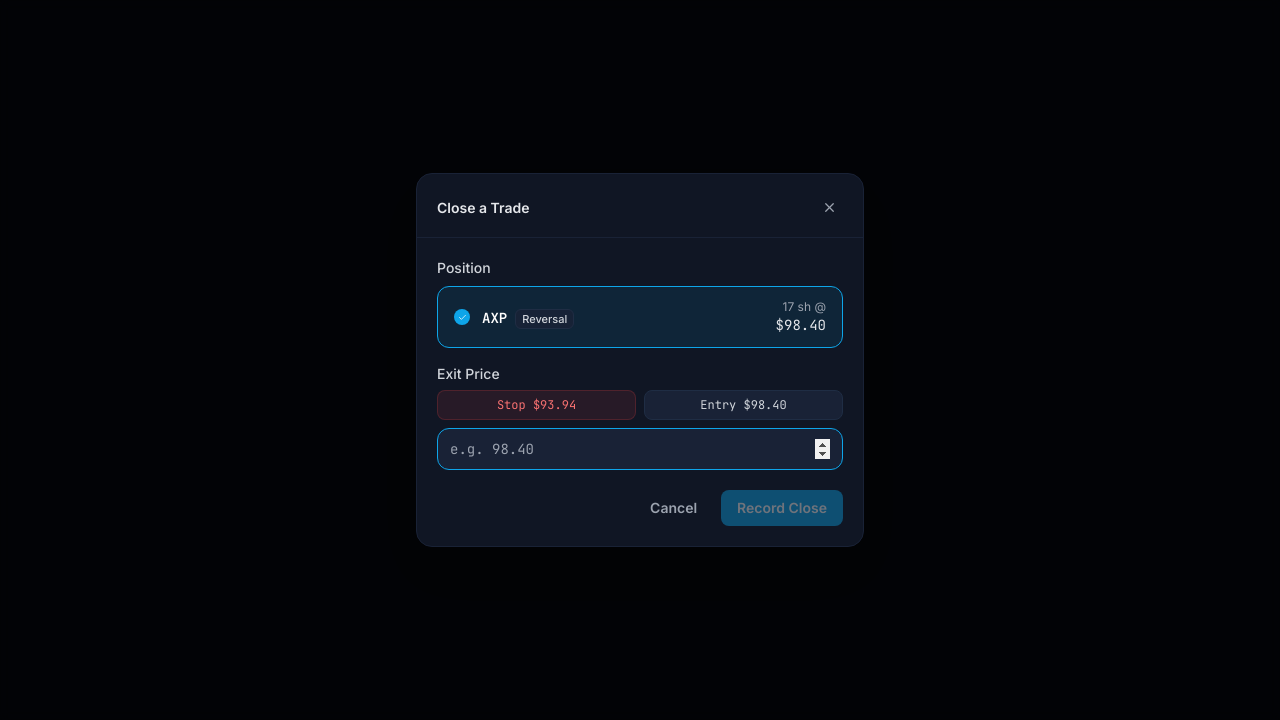
it: LogTradeModal (close a position) › tells the user when the trade was already closed
This screenshot has width=1280, height=720.
Type "100" into the number field labelled "Exit Price".
click(640, 449); type("100")  # box [437, 428, 843, 470]
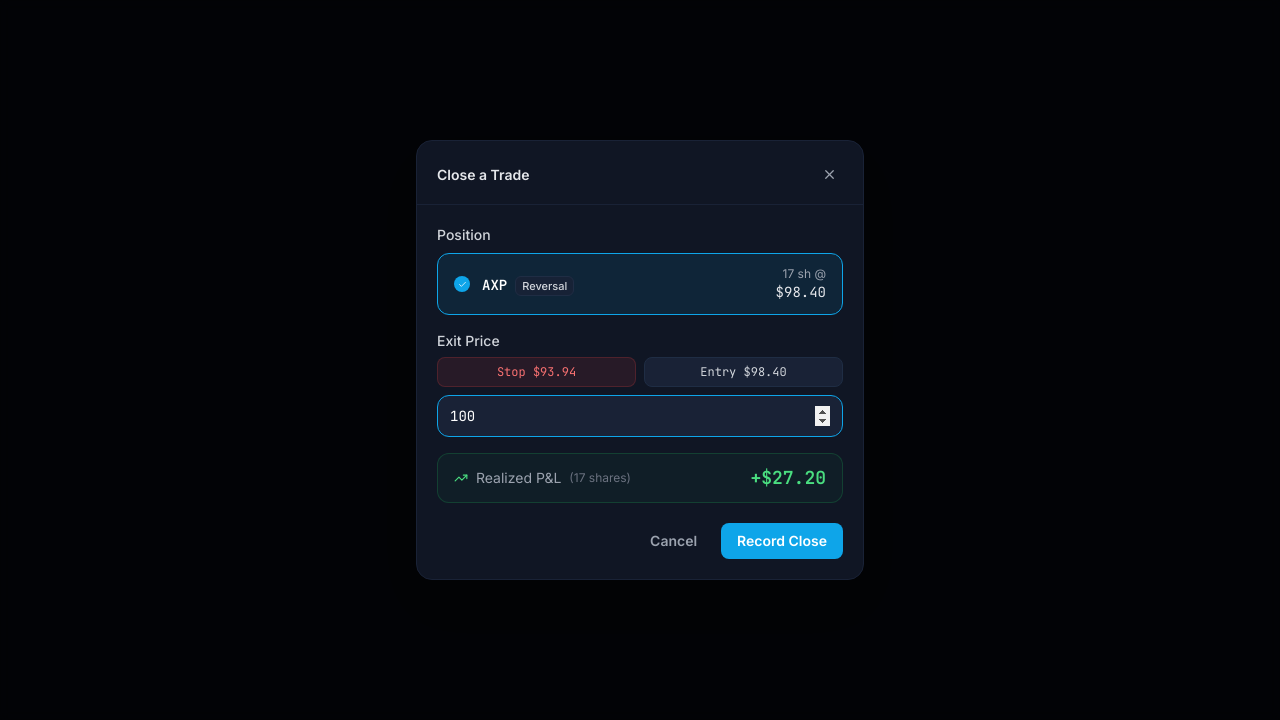
Click the button "Record Close".
click(782, 541)  # box [721, 523, 843, 559]
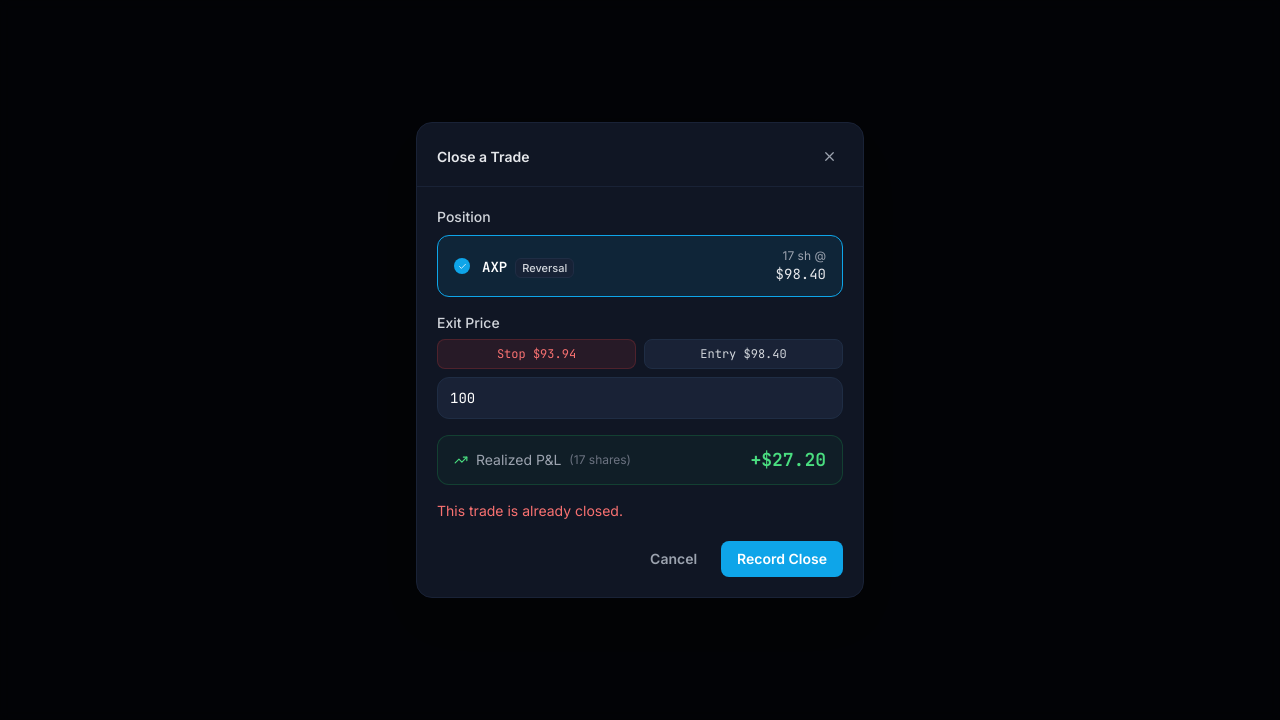
expect the text "This trade is already closed." is shown: met, box [437, 502, 623, 519]
